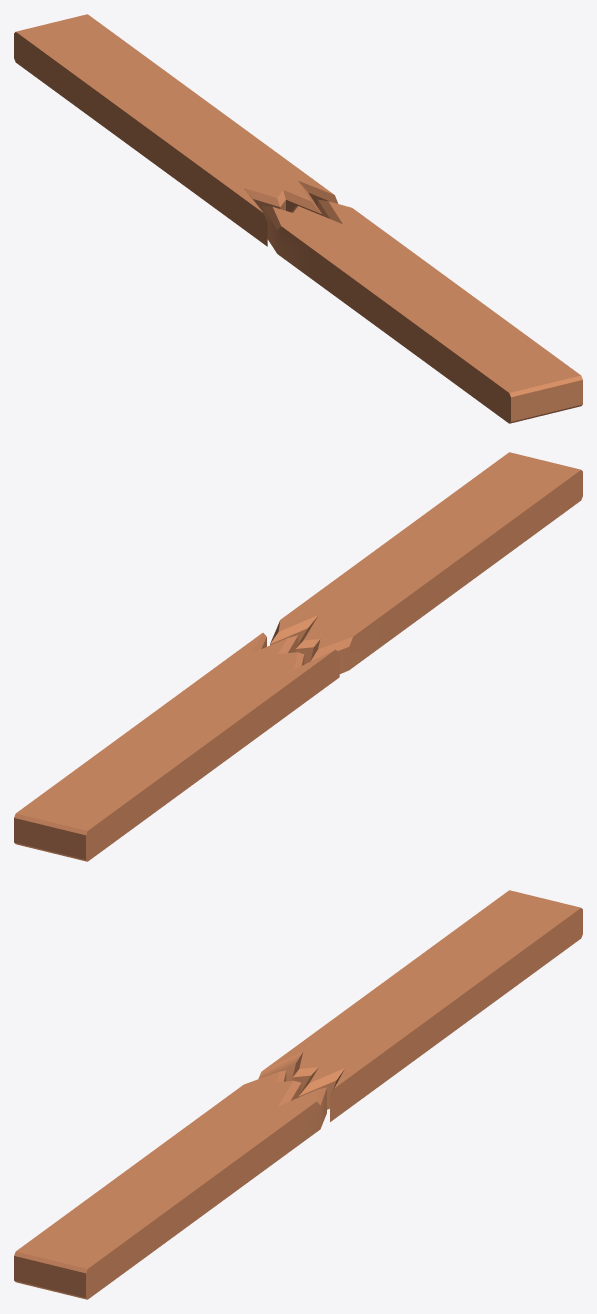
Rendered from BreakingBeam.fbx.
3 views of the same model, one above another, from view 1: azimuth 30°, elevation 25°; view 2: azimuth 150°, elevation 25°; view 3: azimuth 330°, elevation 25° (orthographic).
Parts seen in each view (by area): view 1: BreakingBeamL, BreakingBeamR; view 2: BreakingBeamR, BreakingBeamL; view 3: BreakingBeamL, BreakingBeamR.
Part boxes in pixels (<box>): BreakingBeamL: <box>262,199,582,423</box>; BreakingBeamR: <box>14,14,338,246</box>; BreakingBeamR: <box>14,633,339,861</box>; BreakingBeamL: <box>270,452,582,673</box>; BreakingBeamL: <box>14,1070,326,1299</box>; BreakingBeamR: <box>258,890,582,1121</box>.
Bounding box in the file's own units: 0.5707 × 0.2333 × 6.83.
1 material, 1 textured.
